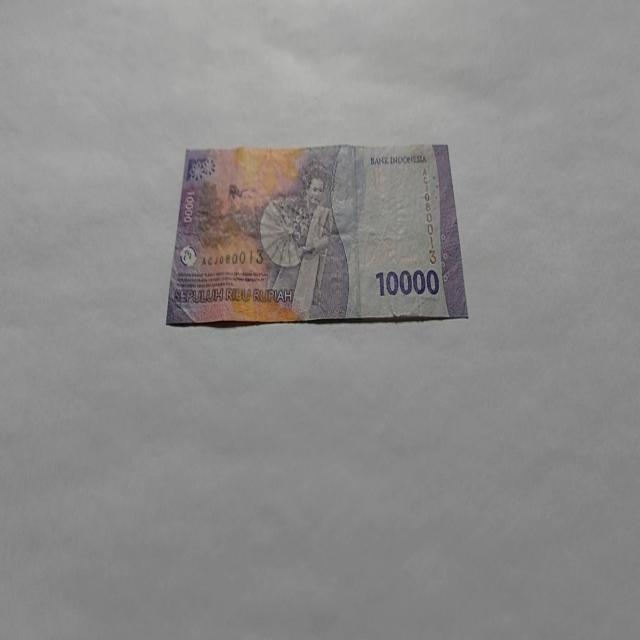sepuluh ribu rupiah: (164, 140, 468, 328)
